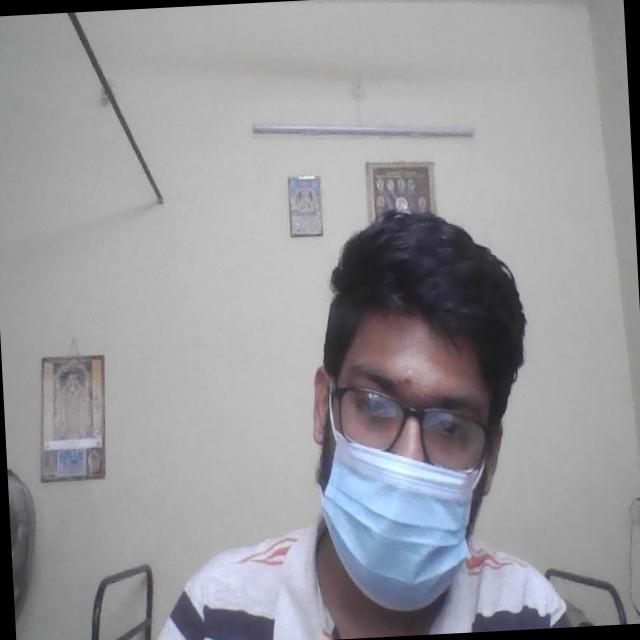Focused: (334, 337, 508, 569)
